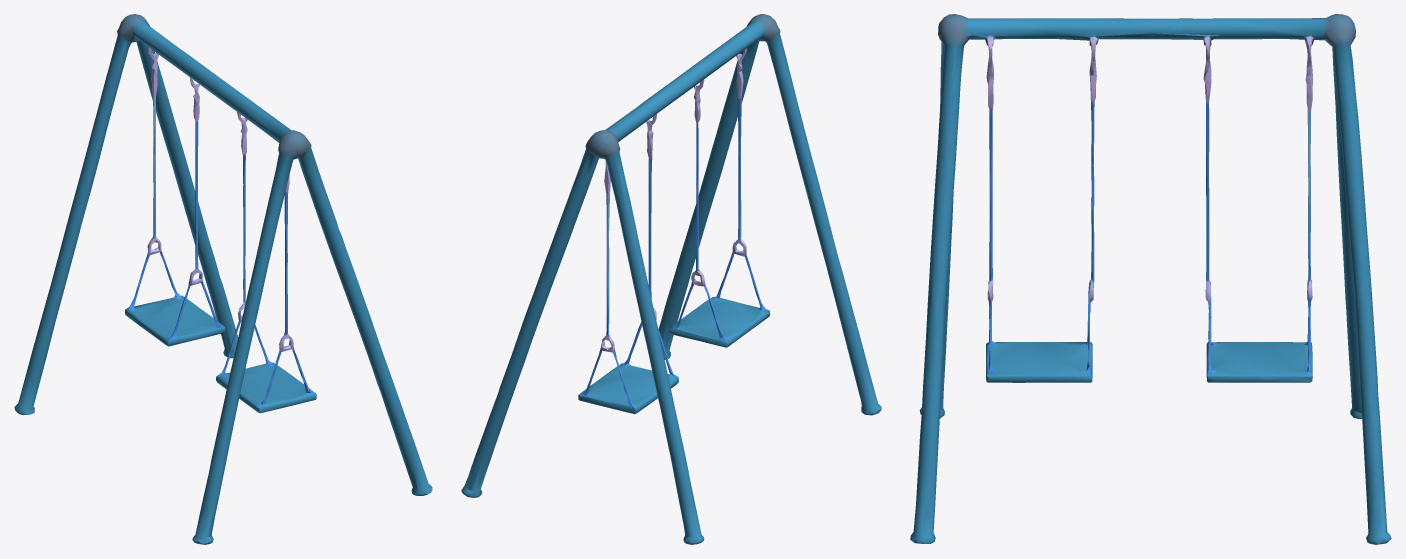
File: swing.glb
The picture shows the model from 3 angles, left to right: view 1: azimuth 30°, elevation 25°; view 2: azimuth 150°, elevation 25°; view 3: azimuth 270°, elevation 25°; orthographic projection. The views are drawn at different scales.
Visible parts, largest first — view 1: swing; view 2: swing; view 3: swing.
Boxes of the visible parts, x1,y1,x2,y2 form: swing: [14, 14, 432, 544]; swing: [461, 14, 881, 544]; swing: [910, 14, 1391, 544].
Size of the model in its own units: 1.48 by 2.3 by 2.19.
Materials: 1 (1 with a texture image).
